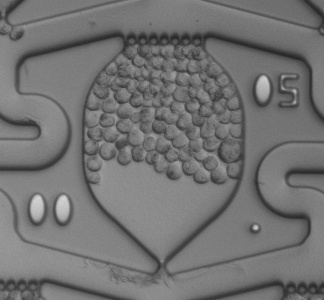AptNum: (245, 66, 305, 114)
Marker: (245, 217, 267, 238)
StNum: (20, 185, 84, 236)
Trap: (135, 257, 192, 300)
